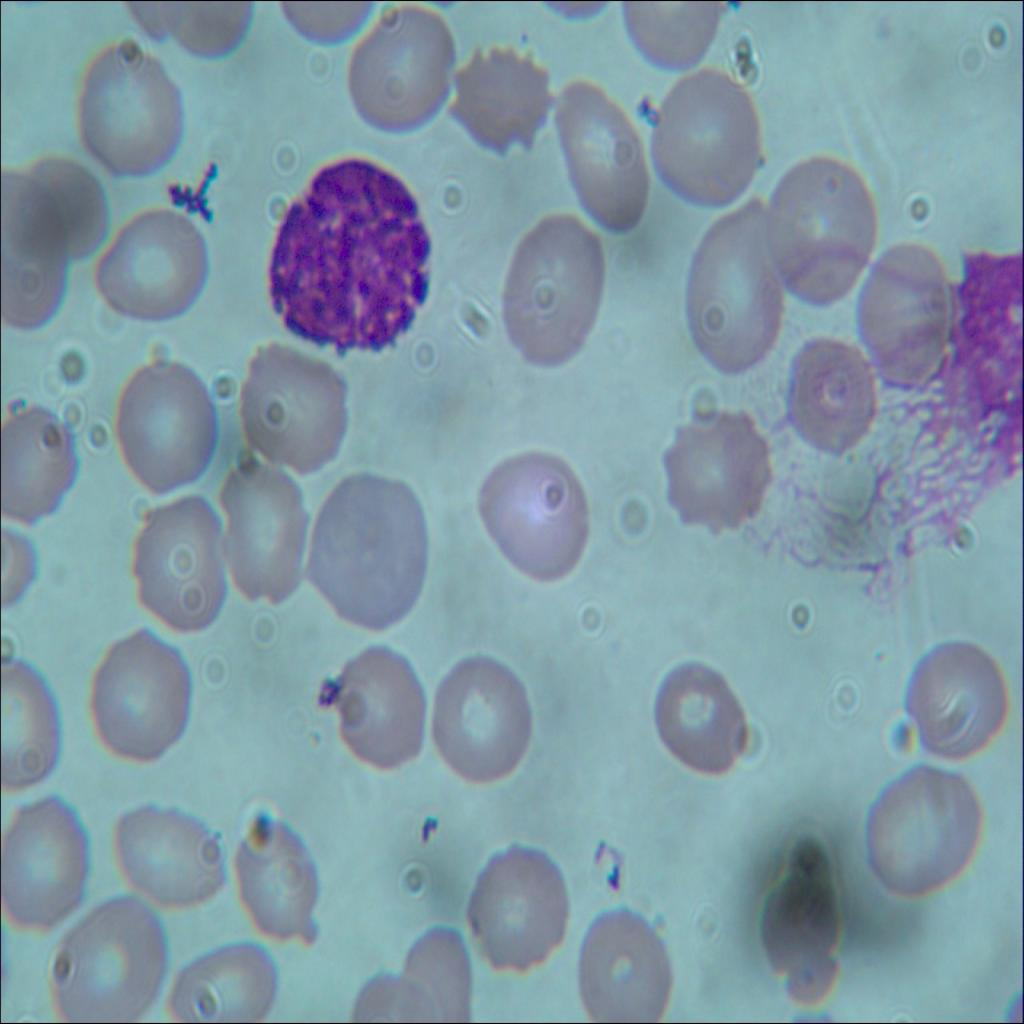Basofil: (261, 155, 435, 351)
Eritrosit: (489, 212, 610, 379), (546, 75, 656, 241), (308, 481, 434, 622), (654, 68, 771, 219), (764, 152, 881, 301), (226, 334, 352, 471), (682, 209, 788, 371), (474, 449, 590, 592), (44, 895, 169, 1023), (864, 766, 983, 897), (459, 838, 575, 968), (428, 647, 538, 782), (895, 634, 1011, 762), (73, 49, 191, 172), (656, 411, 773, 534), (218, 454, 311, 605), (646, 648, 758, 772), (850, 242, 948, 381), (91, 625, 191, 761), (133, 488, 226, 632), (351, 14, 459, 134), (573, 891, 671, 1023), (114, 792, 228, 904), (95, 205, 201, 324), (444, 48, 553, 159), (115, 354, 206, 485), (3, 793, 89, 931), (0, 401, 83, 539), (234, 814, 322, 944), (755, 870, 843, 998), (781, 335, 875, 454), (166, 934, 284, 1023), (15, 152, 111, 259), (331, 649, 423, 754), (0, 648, 58, 796), (0, 212, 78, 322), (395, 920, 475, 1023)
Platelet: (410, 809, 438, 852), (309, 669, 339, 707), (506, 18, 536, 55), (633, 87, 653, 125)
